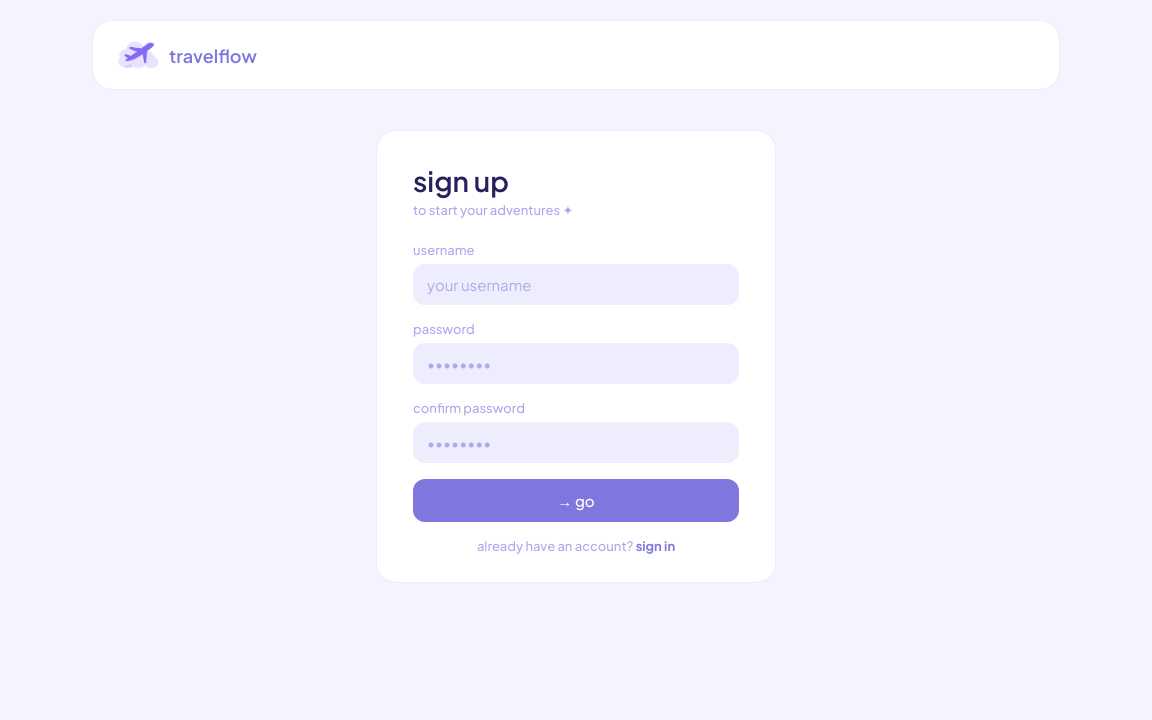
Test: RegisterPage › shows error on api failure
Type "pass" into the 1st password field with placeholder "••••••••".
click(576, 364); type("pass")  # box [413,343,739,384]
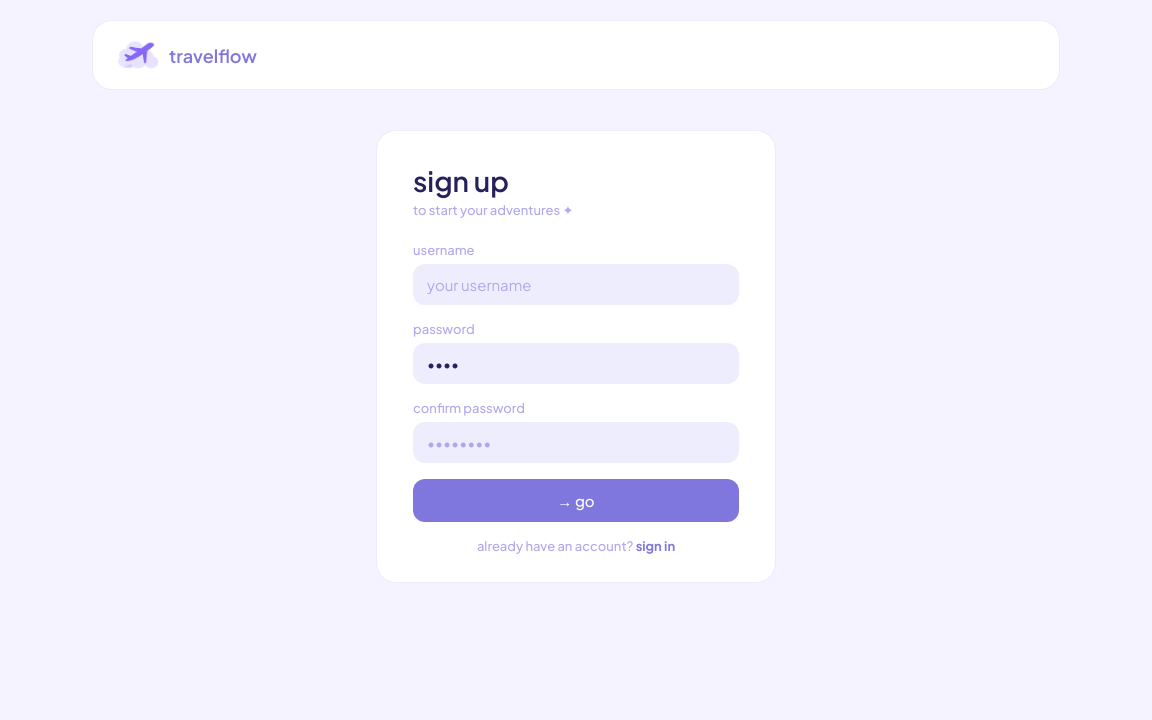
Type "pass" into the password field with placeholder "••••••••".
click(576, 442); type("pass")  # box [413,422,739,463]
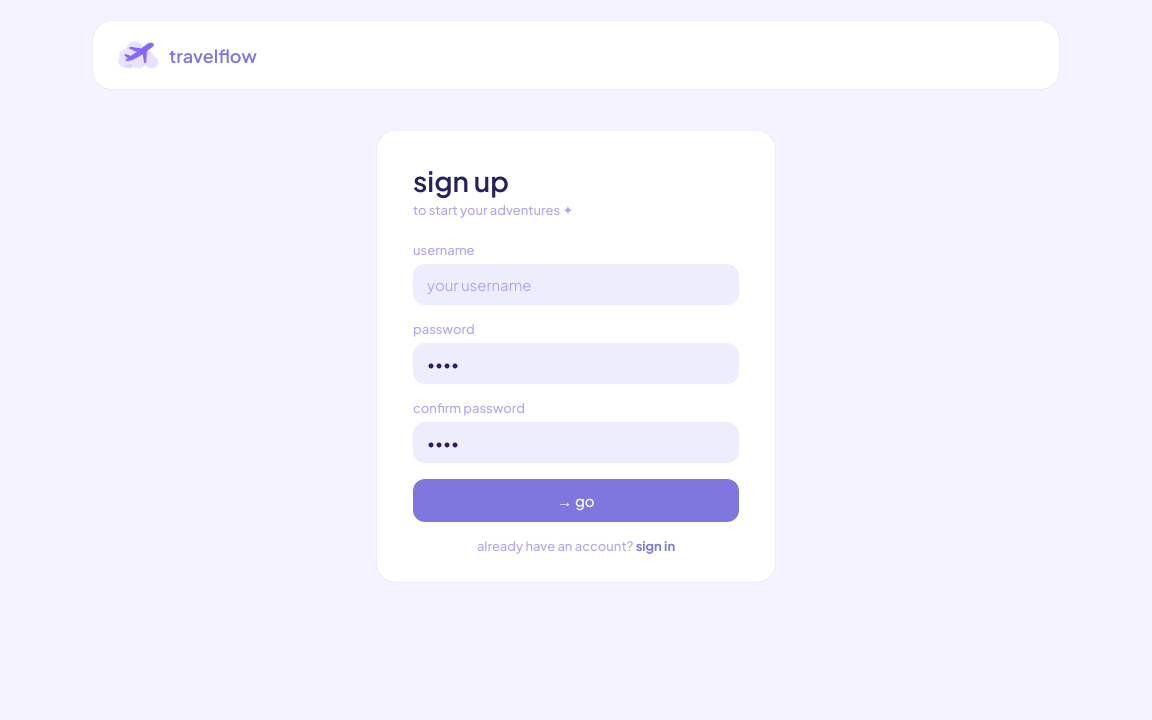
Submit the form "→ go", box [376,130,776,583]
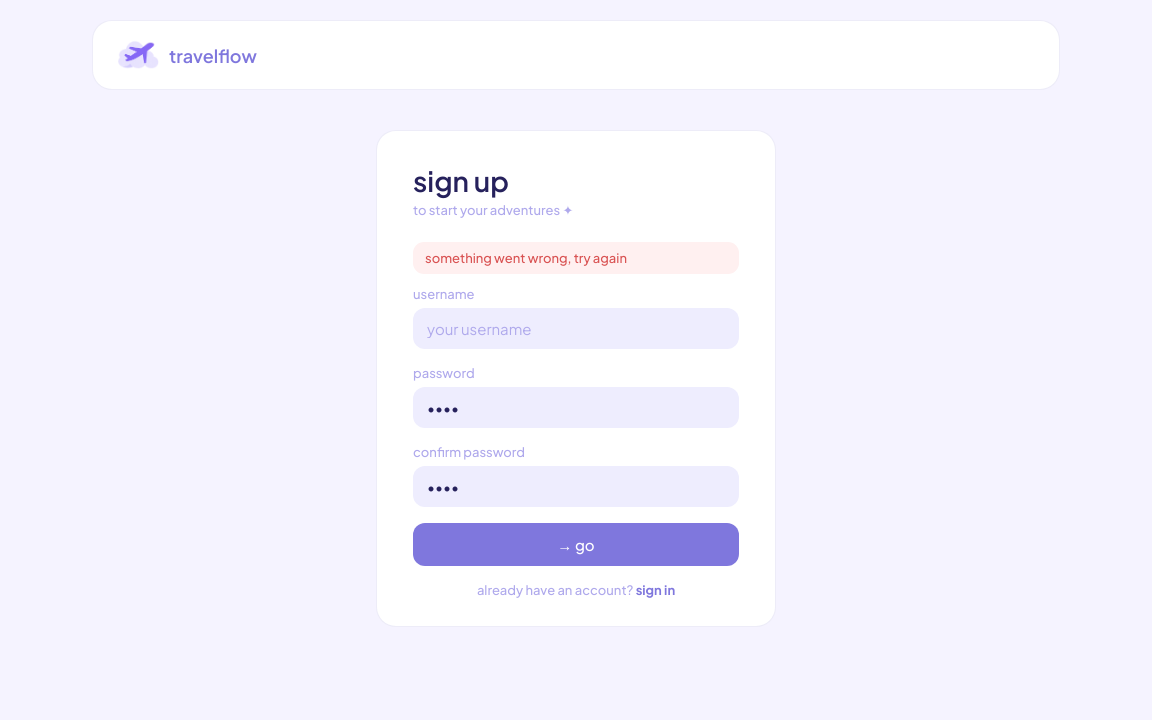
Expected: the text "something went wrong, try again" is shown, [413,242,739,274]
